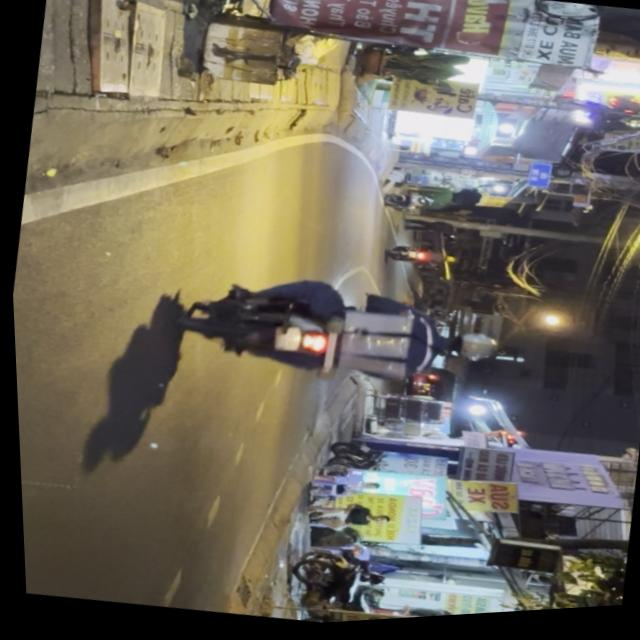helmet: (441, 332, 499, 373)
licenseplate: (162, 254, 508, 418)
nohelmet: (271, 328, 301, 357)
